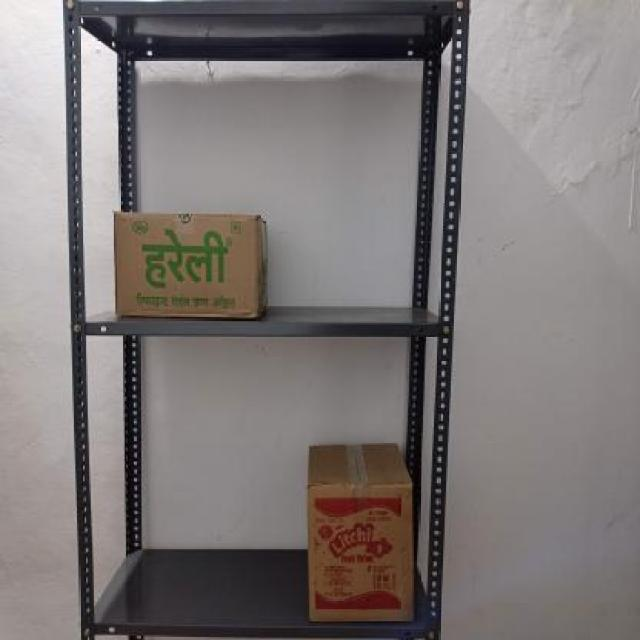box: (113, 211, 264, 320), (307, 482, 415, 620)
